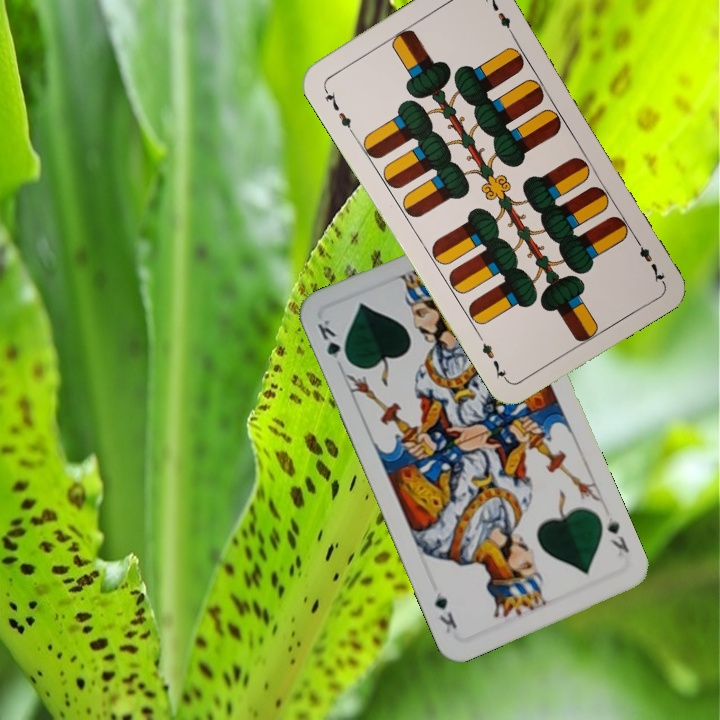E7: (319, 84, 357, 137), (630, 232, 668, 285)
GK: (313, 315, 352, 371), (603, 513, 632, 560)
